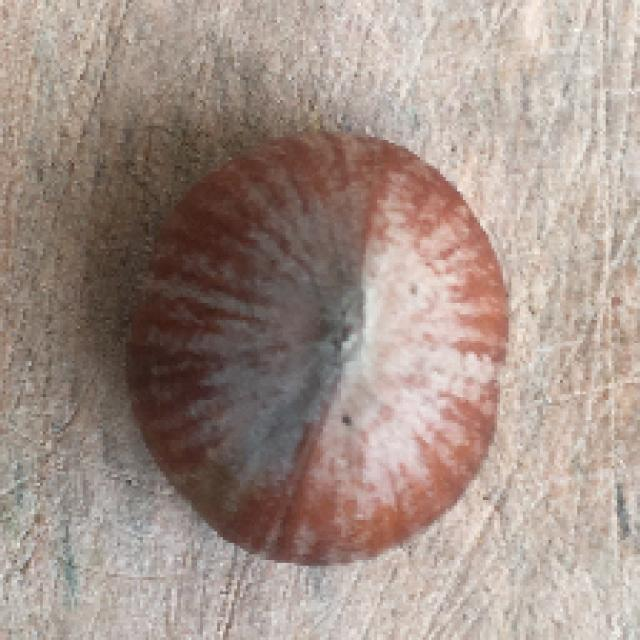qualityHazelnut: (126, 123, 511, 575)
